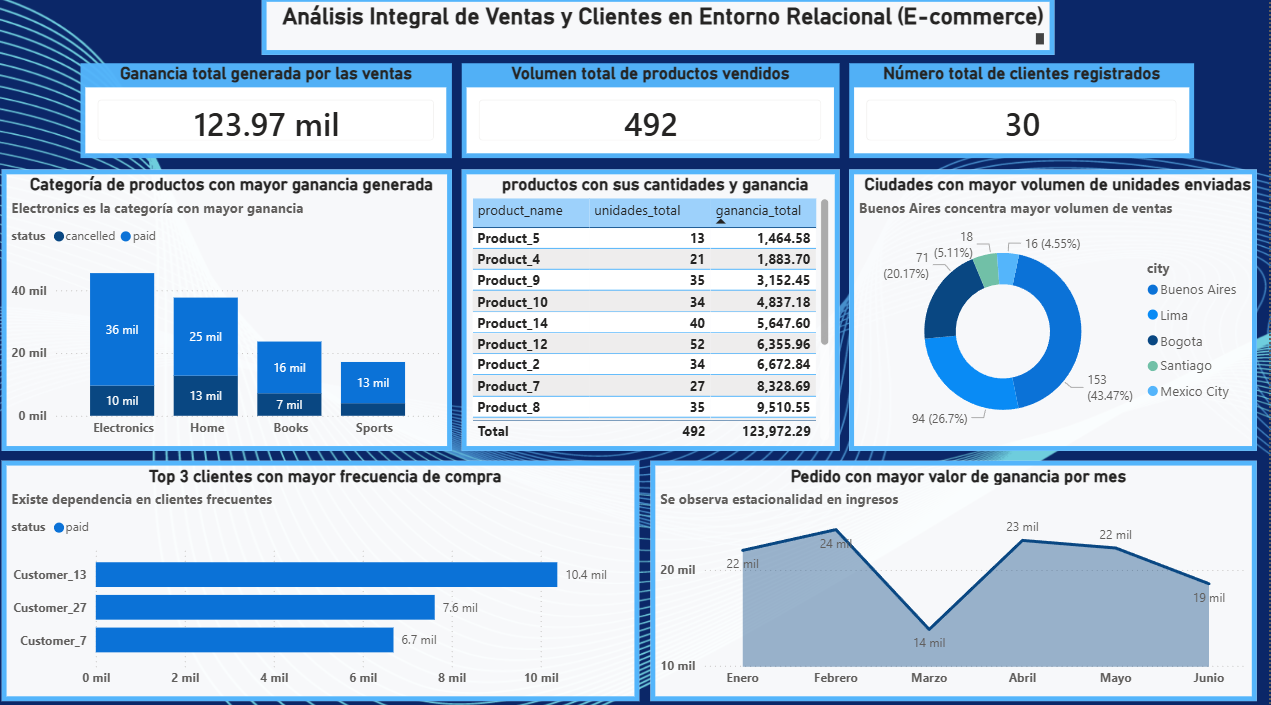

Layout of this report page (visuals, bound fields, positions):
{"tool":"powerbi","page":{"name":"Dashboard analitico ","canvas":[1280,720],"ordinal":0},"visuals":[{"type":"cardVisual","title":"Volumen total de productos vendidos","fields":{"Data":["order_items.unidades_total"]},"box":[476.4,75.9,375.7,94.5],"z":0},{"type":"cardVisual","title":"Ganancia total generada por las ventas","fields":{"Data":["order_items.ganancia_total"]},"box":[97,75.9,369.5,94.5],"z":1000},{"type":"cardVisual","title":"Número total de clientes registrados","fields":{"Data":["customers.cliente"]},"box":[862.1,75.9,343.3,94.5],"z":2000},{"type":"columnChart","title":"Categoría de productos con mayor ganancia generada","fields":{"Category":["products.category"],"Y":["order_items.ganancia_total"],"Series":["orders.status"]},"box":[18.7,181.6,447.8,279.9],"z":3000},{"type":"clusteredBarChart","title":"Top 3 clientes con mayor frecuencia de compra","fields":{"Category":["customers.customer_name"],"Y":["order_items.ganancia_total"],"Series":["orders.status"]},"box":[18.7,471.5,634.4,238.8],"z":4000},{"type":"donutChart","title":"Ciudades con mayor volumen de unidades enviadas","fields":{"Category":["customers.city"],"Y":["order_items.unidades_total"],"Series":["orders.status"]},"box":[862.1,181.6,405.5,279.9],"z":5000},{"type":"tableEx","title":"productos con sus cantidades y ganancia ","fields":{"Values":["products.product_name","order_items.unidades_total","order_items.ganancia_total"]},"box":[476.4,181.6,375.7,279.9],"z":6000},{"type":"lineChart","title":"Pedido con mayor valor de ganancia por mes","fields":{"Category":["orders.order_date.Variación.Jerarquía de fechas.Mes"],"Y":["order_items.ganancia_total"]},"box":[664.3,471.5,603.3,238.8],"z":7000},{"type":"textbox","title":"Análisis Integral de Ventas y Clientes en Entorno Relacional (E-commerce)","box":[277.4,10,788.7,57.2],"z":8000}]}

Visuals, with their boxes in screenshot pixels (x1, y1, x2, y2), scaled from the page's 1280x720 canvas onto the 1271x705 screenshot:
"Volumen total de productos vendidos" cardVisual: rect(473, 74, 846, 167)
"Ganancia total generada por las ventas" cardVisual: rect(96, 74, 463, 167)
"Número total de clientes registrados" cardVisual: rect(856, 74, 1197, 167)
"Categoría de productos con mayor ganancia generada" columnChart: rect(19, 178, 463, 452)
"Top 3 clientes con mayor frecuencia de compra" clusteredBarChart: rect(19, 462, 649, 696)
"Ciudades con mayor volumen de unidades enviadas" donutChart: rect(856, 178, 1259, 452)
"productos con sus cantidades y ganancia " tableEx: rect(473, 178, 846, 452)
"Pedido con mayor valor de ganancia por mes" lineChart: rect(660, 462, 1259, 696)
"Análisis Integral de Ventas y Clientes en Entorno Relacional (E-commerce)" textbox: rect(275, 10, 1059, 66)
